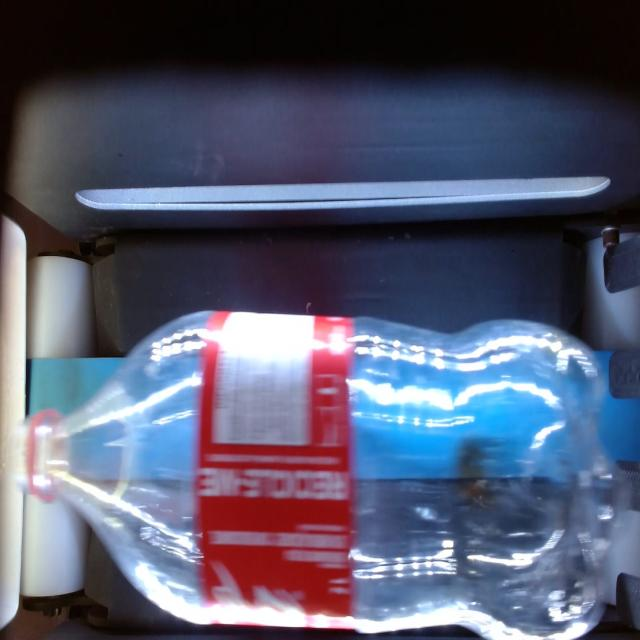bottom: (528, 310, 625, 640)
no_cap: (9, 396, 73, 497)
